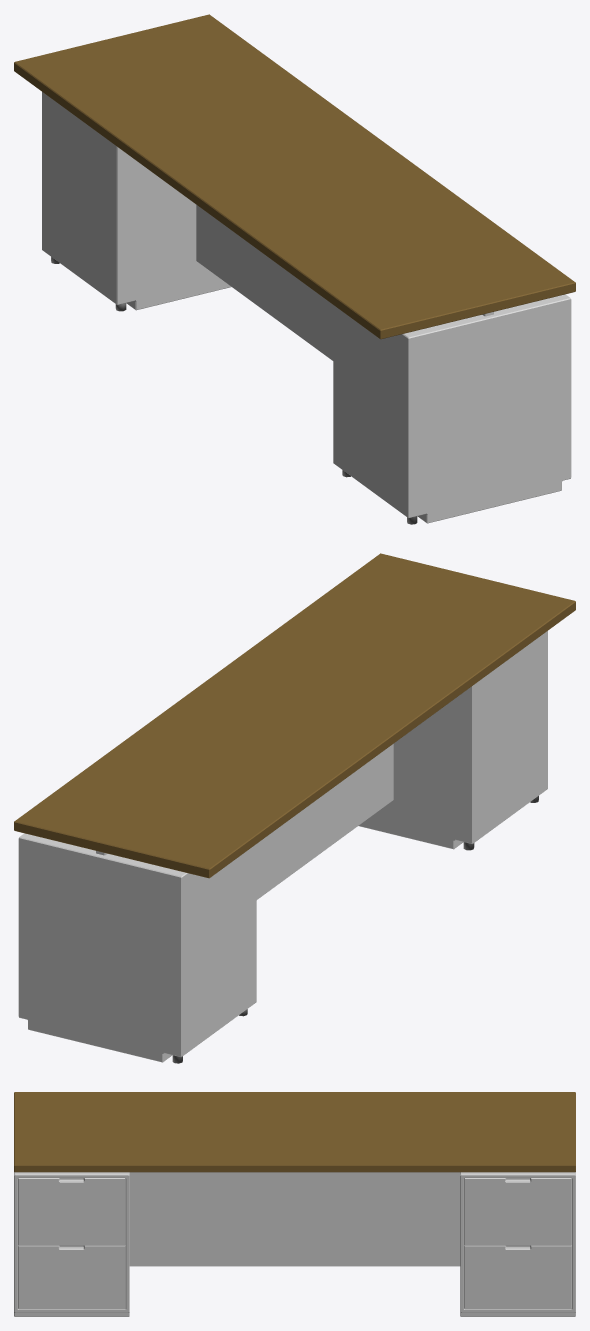
Rendered from Office1_table.fbx.
The picture shows the model from 3 angles, top to bottom: view 1: azimuth 30°, elevation 25°; view 2: azimuth 150°, elevation 25°; view 3: azimuth 270°, elevation 25°; orthographic projection. The views are drawn at different scales.
Parts seen in each view (by area): view 1: OfficeTable; view 2: OfficeTable; view 3: OfficeTable.
Part boxes in pixels (bbox=[...]): OfficeTable: bbox=[14, 14, 575, 524]; OfficeTable: bbox=[14, 553, 575, 1063]; OfficeTable: bbox=[14, 1092, 575, 1316].
Bounding box in the file's own units: 105 × 340 × 105.
